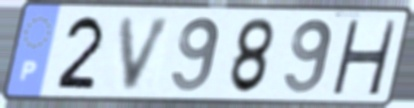2: (54, 14, 106, 92)
8: (227, 16, 277, 96)
9: (169, 15, 221, 95), (282, 17, 334, 96)
H: (328, 17, 399, 97)
V: (118, 14, 178, 94)
